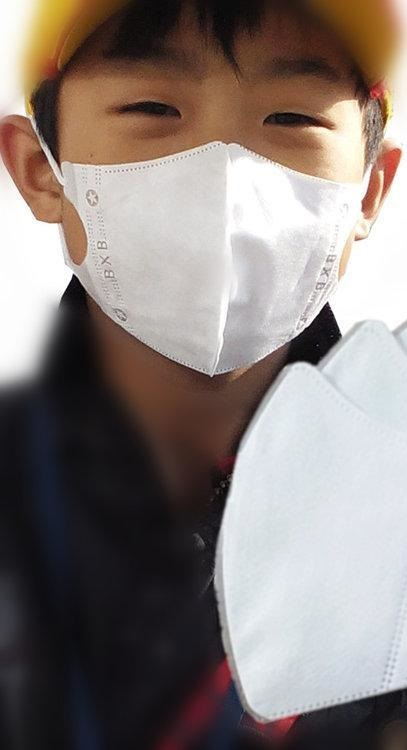face_mask: (65, 1, 359, 367)
